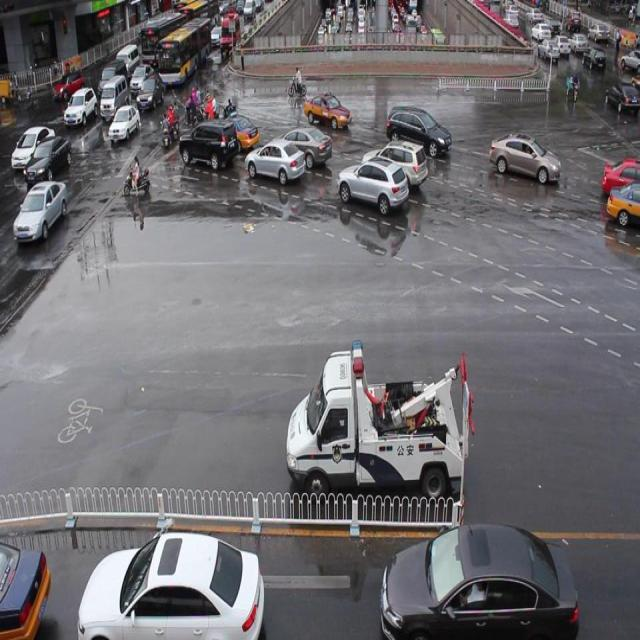bus: (285, 338, 464, 498)
car: (336, 156, 408, 220), (487, 130, 560, 186), (385, 102, 450, 160), (360, 137, 427, 191), (266, 123, 332, 169), (244, 137, 305, 183), (303, 90, 350, 132), (604, 179, 640, 230), (213, 114, 259, 152), (600, 159, 640, 199)
truck: (179, 118, 237, 168)
